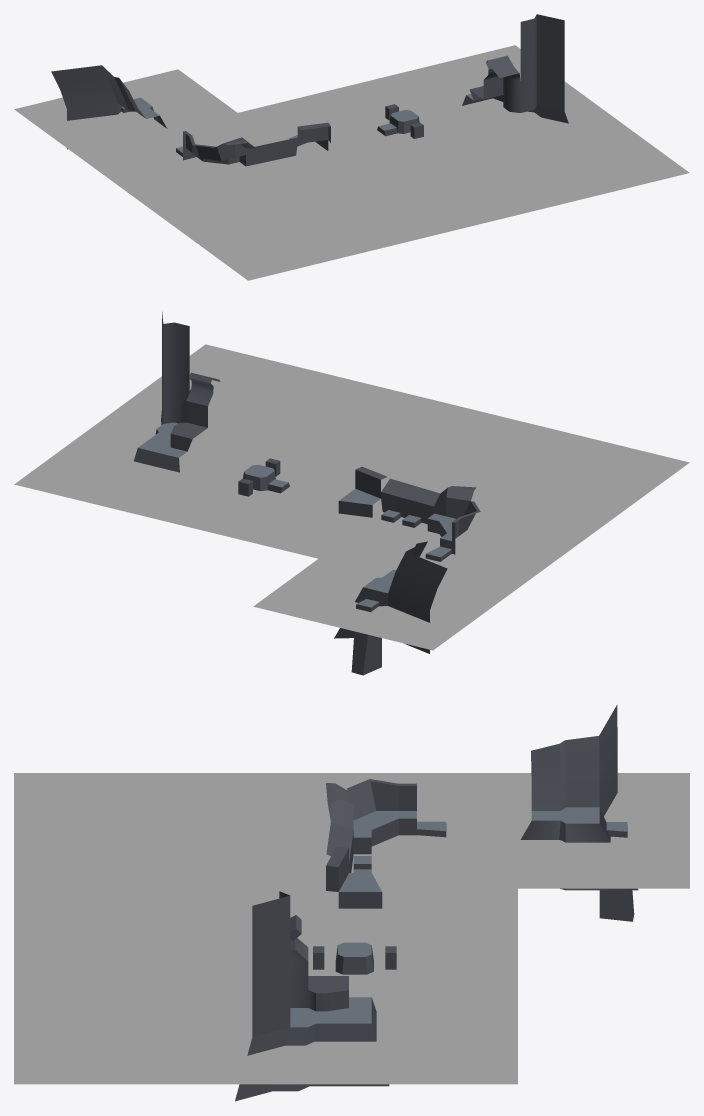
Rendered from NEW TUTO.fbx.
3 renders of one model, top to bottom at view 1: azimuth 30°, elevation 25°; view 2: azimuth 150°, elevation 25°; view 3: azimuth 270°, elevation 25°, orthographic. The views are drawn at different scales.
Parts seen in each view (by area): view 1: Fondo, WASD_Room, pCube10, Rest_Room, Entry, PlayableArea; view 2: Fondo, WASD_Room, Rest_Room, pCube10, Entry, Exit_Room2, PlayableArea; view 3: Fondo, WASD_Room, pCube10, Rest_Room, Entry, Exit_Room2, PlayableArea.
Boxes of the visible parts, left/top/right/bottom form: Fondo: left=14, top=45, right=689, bottom=280; WASD_Room: left=462, top=14, right=568, bottom=123; pCube10: left=51, top=65, right=167, bottom=149; Rest_Room: left=183, top=131, right=303, bottom=166; Entry: left=289, top=122, right=330, bottom=150; PlayableArea: left=389, top=110, right=419, bottom=133; Fondo: left=14, top=344, right=689, bottom=650; WASD_Room: left=134, top=312, right=220, bottom=472; Rest_Room: left=381, top=478, right=480, bottom=554; pCube10: left=334, top=541, right=447, bottom=653; Entry: left=338, top=466, right=387, bottom=517; Exit_Room2: left=351, top=599, right=381, bottom=675; PlayableArea: left=243, top=464, right=275, bottom=491; Fondo: left=14, top=773, right=689, bottom=1084; WASD_Room: left=235, top=891, right=389, bottom=1101; pCube10: left=520, top=705, right=638, bottom=890; Rest_Room: left=326, top=779, right=416, bottom=872; Entry: left=326, top=846, right=382, bottom=908; Exit_Room2: left=599, top=822, right=634, bottom=921; PlayableArea: left=335, top=942, right=373, bottom=974.
Size of the model in its own units: 326 by 113 by 299.
